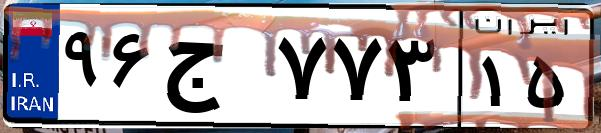1: (475, 38, 525, 113)
3: (385, 28, 445, 110)
5: (525, 38, 570, 115)
6: (110, 28, 158, 98)
7: (270, 28, 330, 110), (330, 28, 385, 110)
9: (57, 26, 110, 100)
ج: (158, 20, 270, 120)
